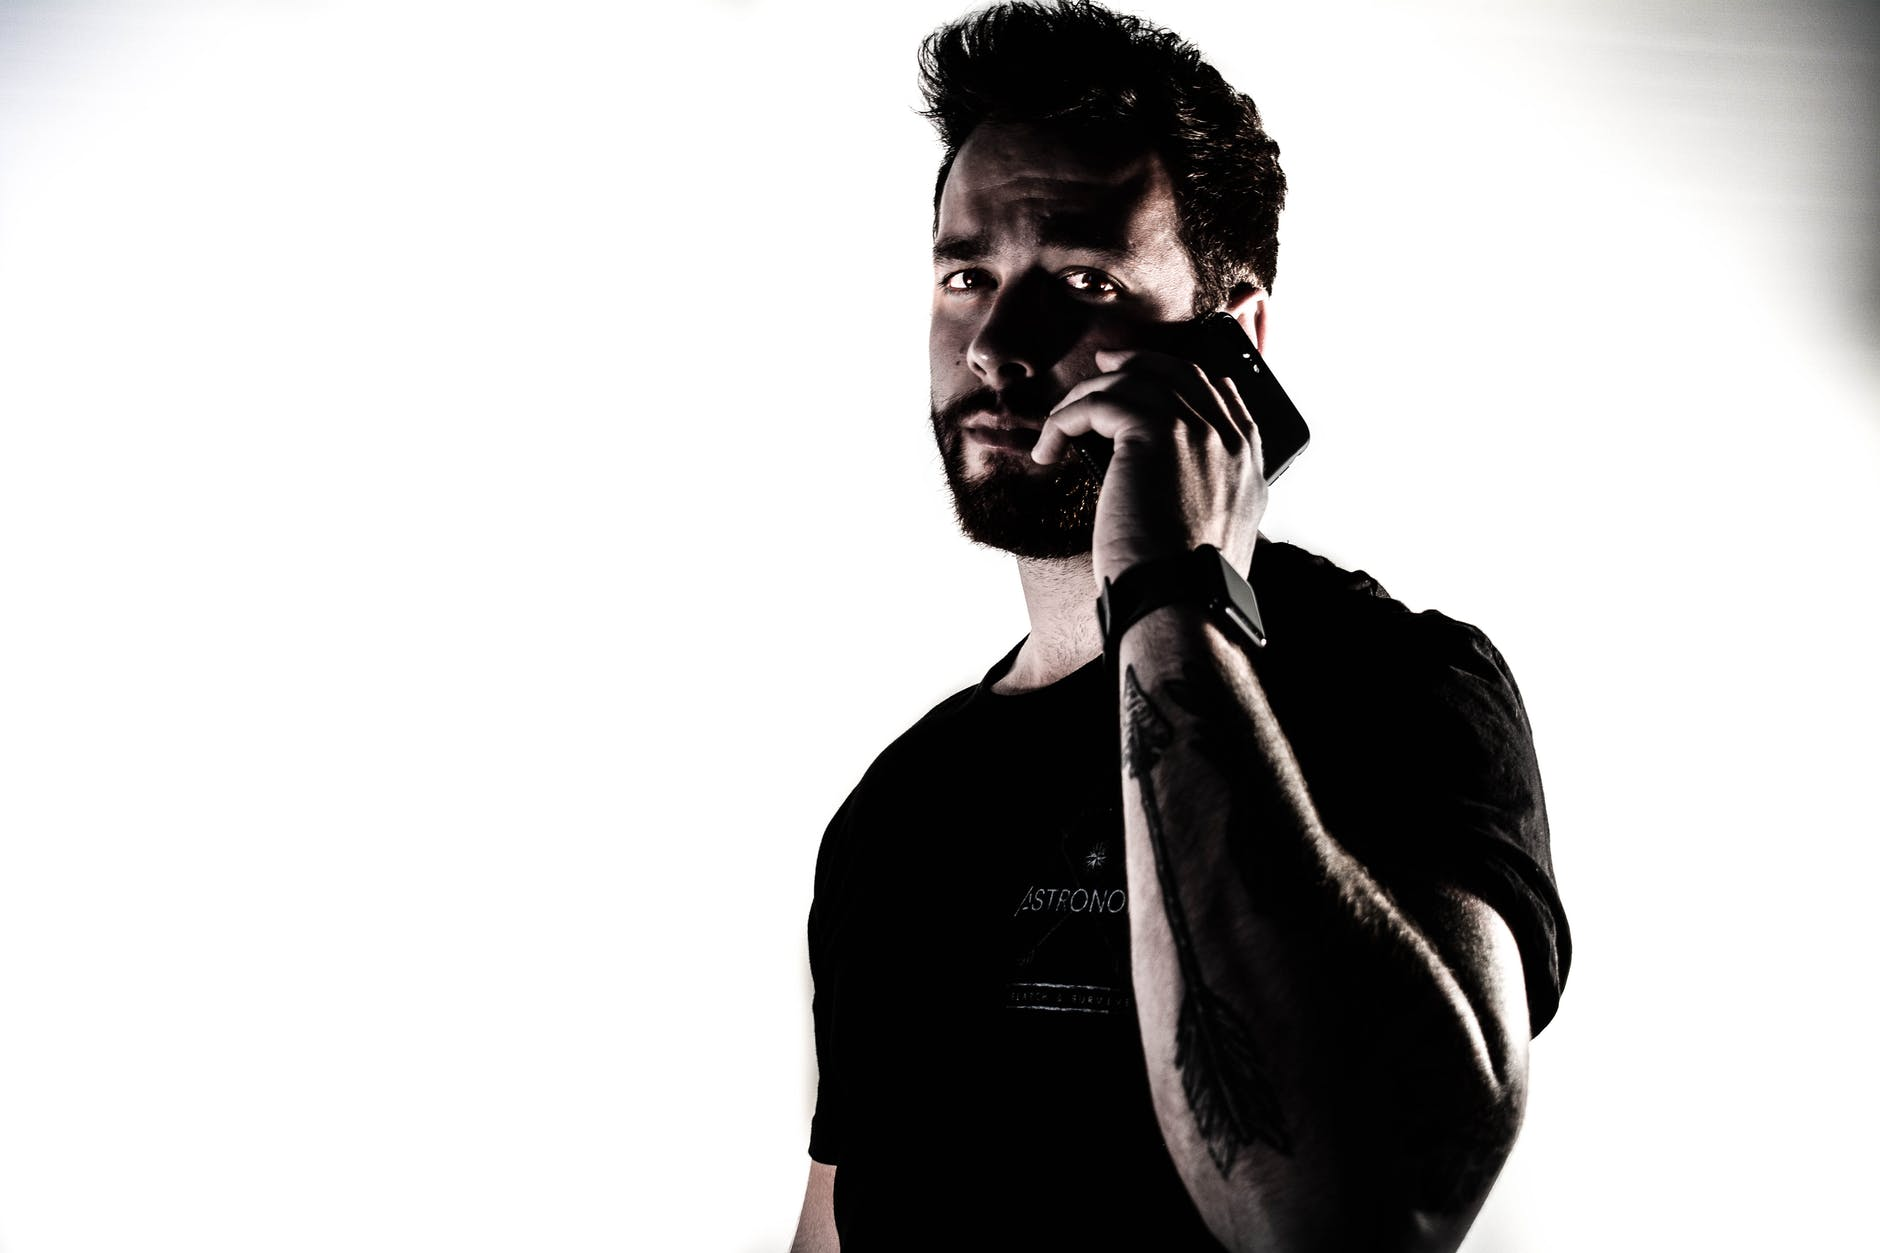phone: (1078, 315, 1294, 592)
talk: (909, 171, 1328, 631)
